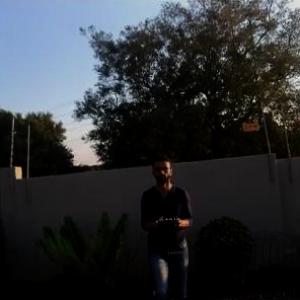follow: (136, 146, 198, 299)
